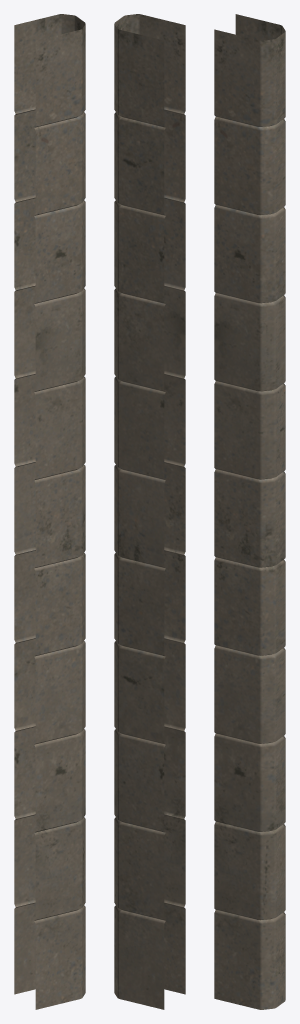
File: cP_GardenLiner01_Straight_Detailed.dae
The picture shows the model from 3 angles, left to right: view 1: azimuth 30°, elevation 25°; view 2: azimuth 150°, elevation 25°; view 3: azimuth 330°, elevation 25°; orthographic projection.
Visible parts, largest first — view 1: cP_GardenLiner01_Straight_Detailed.001; view 2: cP_GardenLiner01_Straight_Detailed.001; view 3: cP_GardenLiner01_Straight_Detailed.001.
Part boxes in pixels (x1,y1,x2,y2): cP_GardenLiner01_Straight_Detailed.001: [14, 14, 85, 1009]; cP_GardenLiner01_Straight_Detailed.001: [114, 14, 185, 1009]; cP_GardenLiner01_Straight_Detailed.001: [214, 14, 285, 1009].
Bounding box in the file's own units: 0.2272 × 0.1493 × 3.78.
